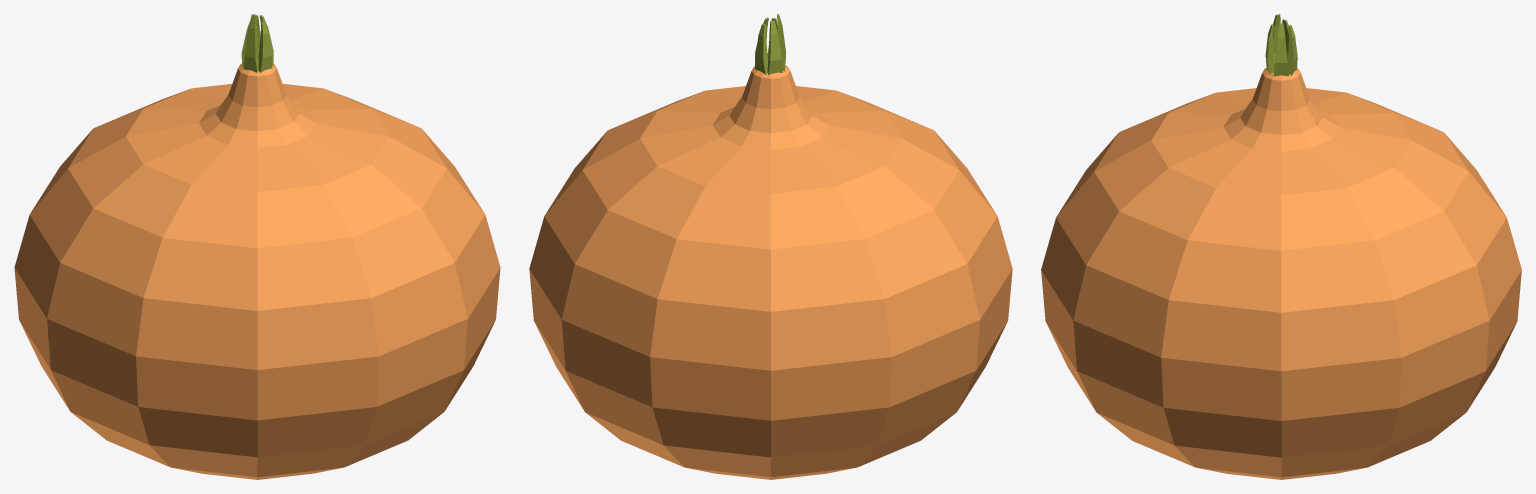
File: onion.fbx
3 views of the same model, side by side, from view 1: azimuth 30°, elevation 25°; view 2: azimuth 150°, elevation 25°; view 3: azimuth 270°, elevation 25° (orthographic).
Visible parts, largest first — view 1: onion; view 2: onion; view 3: onion.
Boxes of the visible parts, left/top/right/bottom form: onion: left=14, top=14, right=500, bottom=479; onion: left=529, top=14, right=1012, bottom=479; onion: left=1041, top=14, right=1521, bottom=479.
Bounding box in the file's own units: 204 × 205 × 204.
